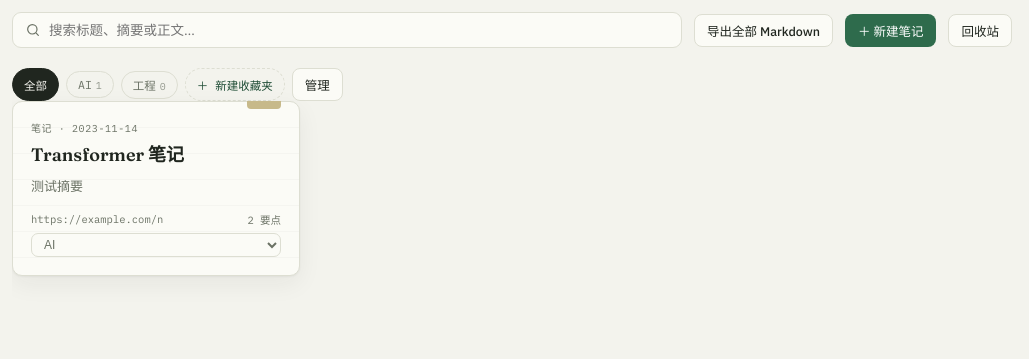
LibraryView › 桌面版导出被取消时给出提示
Expected: the heading "Transformer 笔记" is shown, [31, 143, 184, 166]
Click the link "导出全部 Markdown" at (764, 30), box [694, 14, 833, 46]
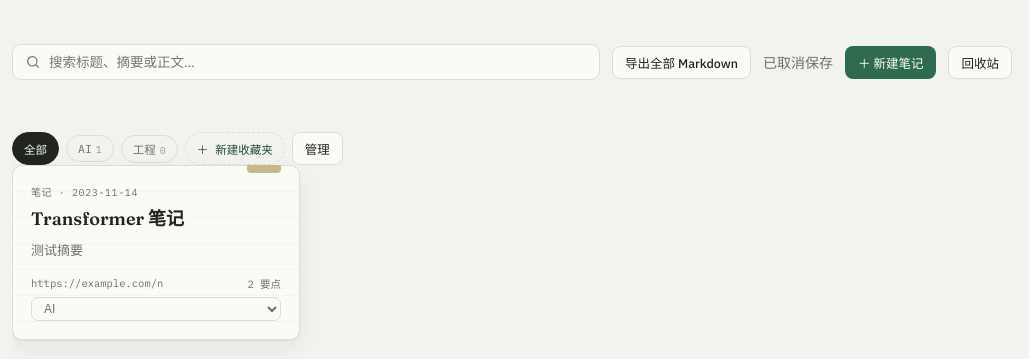
Now the text "已取消保存" is shown, box [763, 54, 833, 72]
